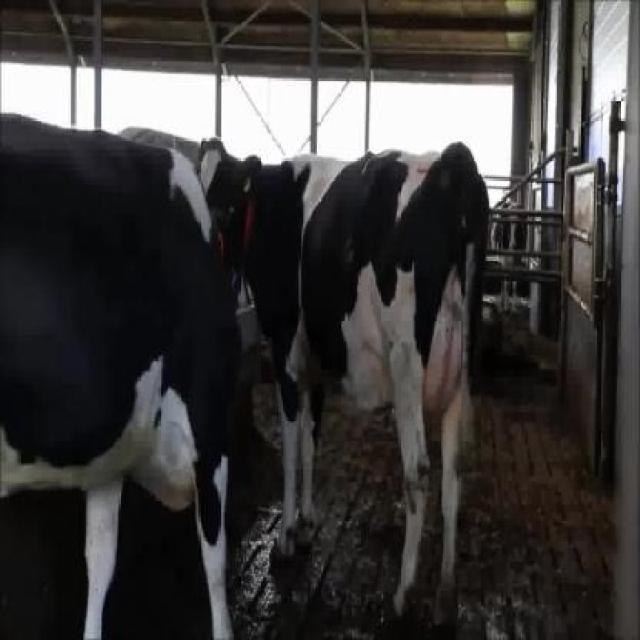Cow: (191, 135, 491, 631), (2, 112, 240, 638)
